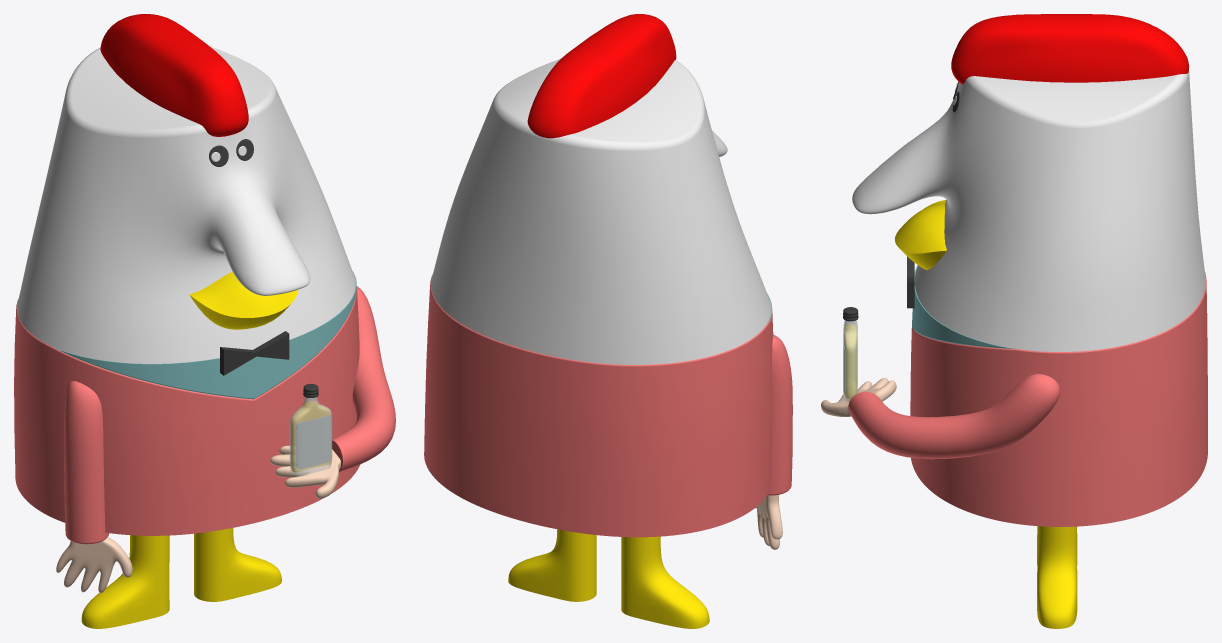
File: tridesu.glb
The picture shows the model from 3 angles, left to right: view 1: azimuth 30°, elevation 25°; view 2: azimuth 150°, elevation 25°; view 3: azimuth 270°, elevation 25°; orthographic projection.
Parts seen in each view (by area): view 1: 445_tridesu, 445_Torides; view 2: 445_tridesu; view 3: 445_tridesu, 445_Torides.
Part boxes in pixels (x1=…): 445_tridesu: x1=14, y1=14, x2=395, y2=628; 445_Torides: x1=289, y1=384, x2=332, y2=475; 445_tridesu: x1=424, y1=14, x2=792, y2=628; 445_tridesu: x1=821, y1=14, x2=1207, y2=628; 445_Torides: x1=843, y1=307, x2=858, y2=401.
Bounding box in the file's own units: 0.1234 × 0.2044 × 0.1274.
